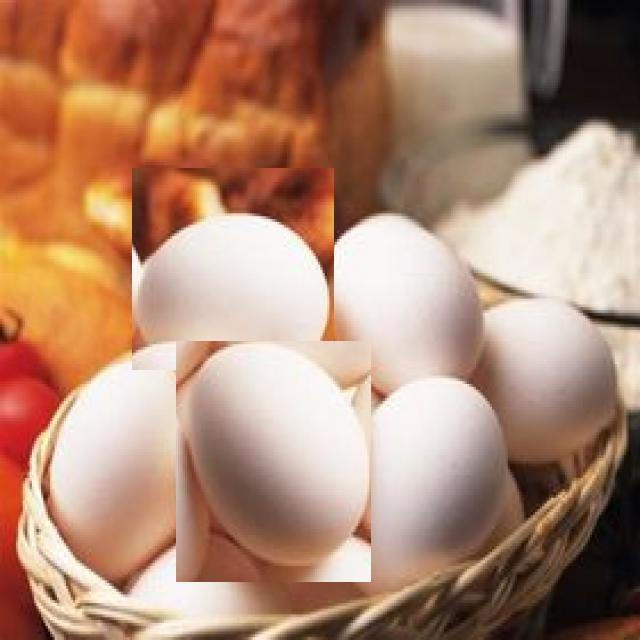Egg: (176, 341, 371, 582), (132, 168, 334, 370), (328, 162, 486, 402)
